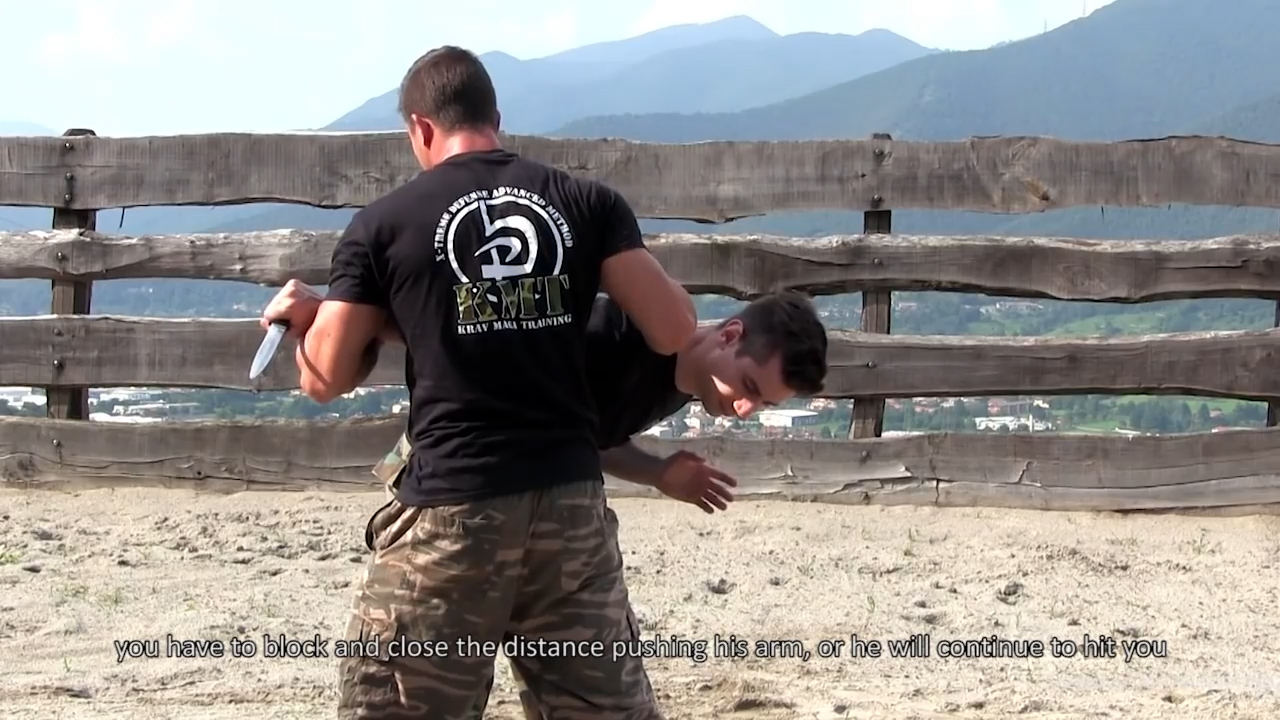knife: (237, 272, 315, 384)
